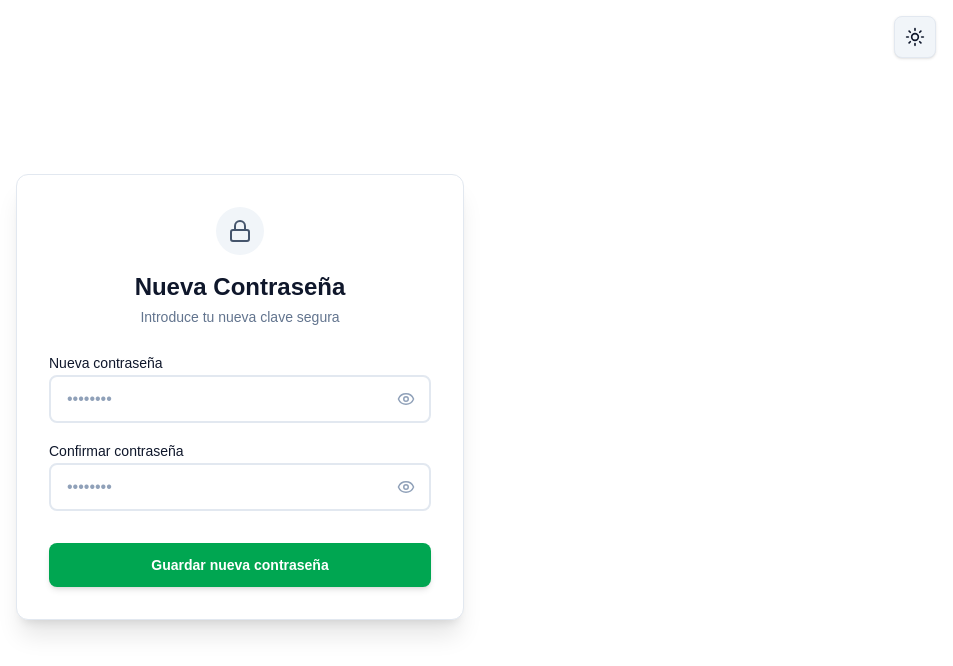
ResetPasswordPage › valida que la contraseña no esté vacía
Click the button "Guardar nueva contraseña" at [240, 565], box [49,543,431,587]
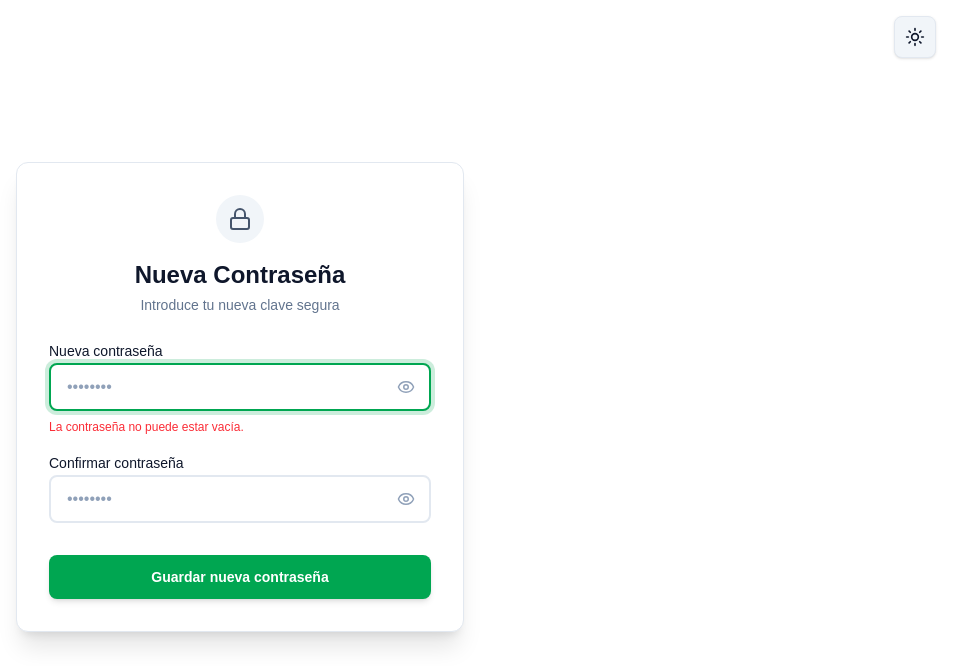
Now the text "La contraseña no puede estar vacía." is shown, box [49,420,244,434]
